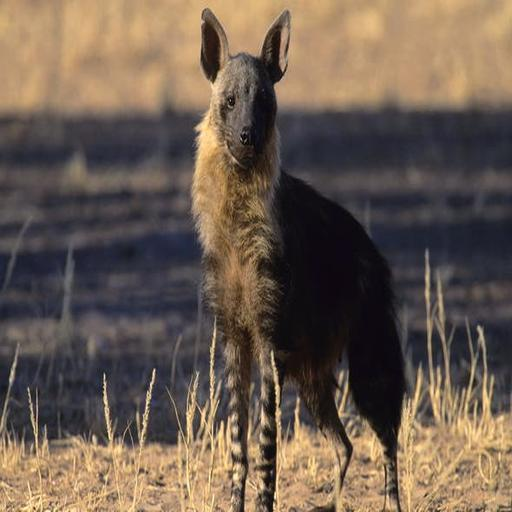Hyena: (156, 0, 412, 512)
